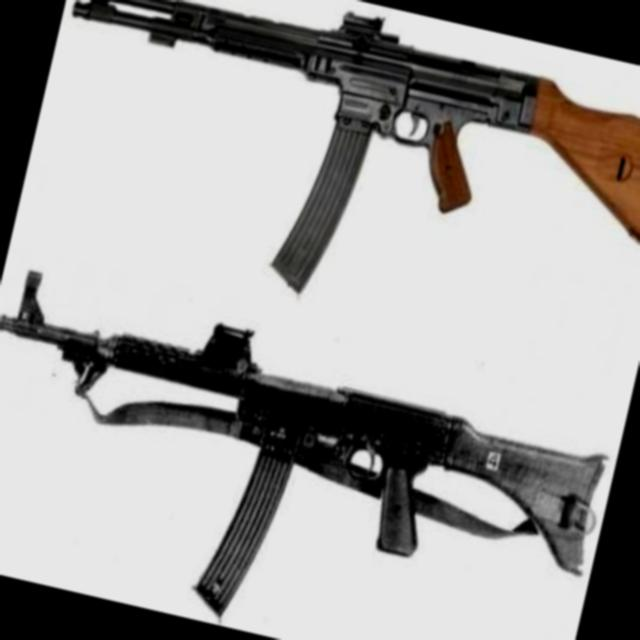ak: (17, 0, 640, 377)
